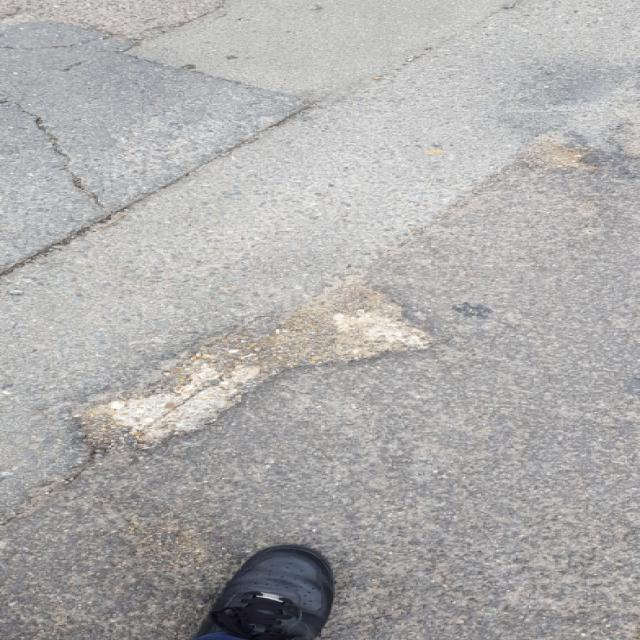pothole: (266, 187, 456, 586)
